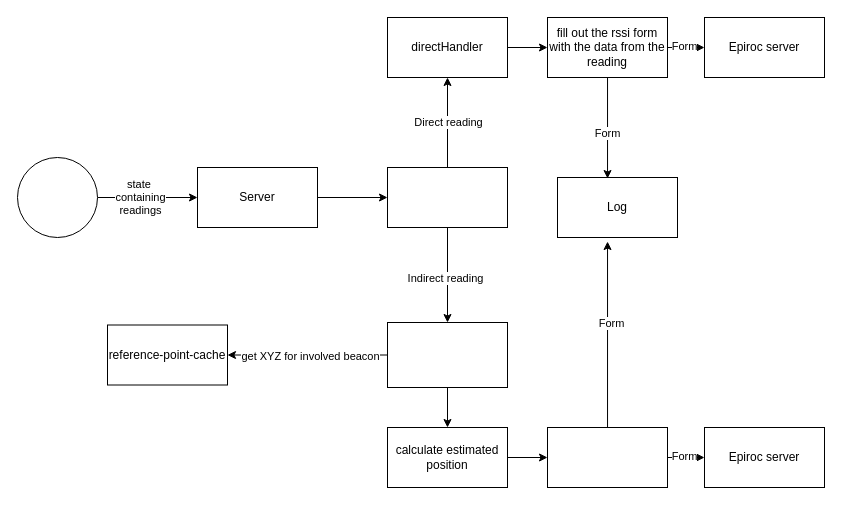
The diagram is 842 pixels wide and 505 high, and some of its shapes have lost their labels. The shapes that lost their labels are listed below. From the top down, each one's box as (x1, y1, x2, y2) in pixels, then its label:
(16, 156, 98, 238): Tag
(386, 166, 508, 228): stateHandler
(386, 322, 508, 388): indirectHandler
(546, 426, 668, 488): fill out the reference-point form with the estimated position
